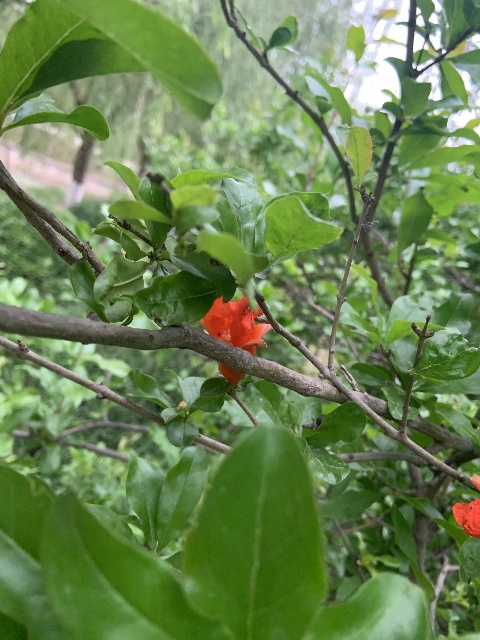flower: (197, 292, 272, 383), (451, 473, 480, 537)
